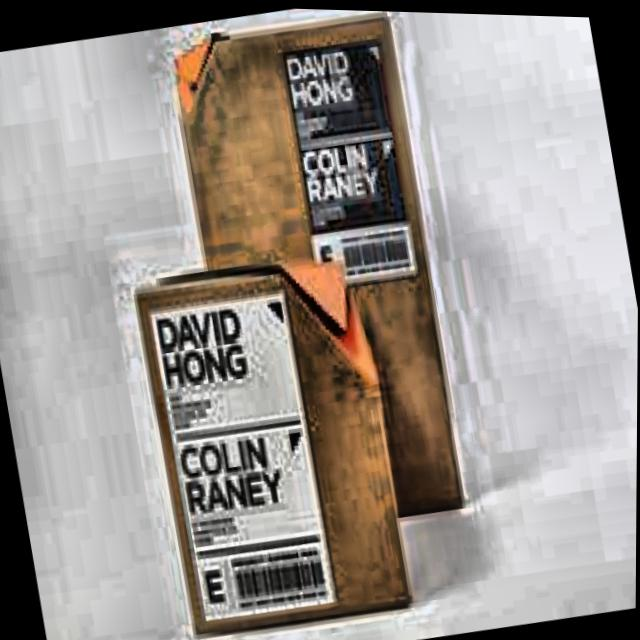Cardbox: (165, 4, 484, 559), (122, 223, 430, 640)
